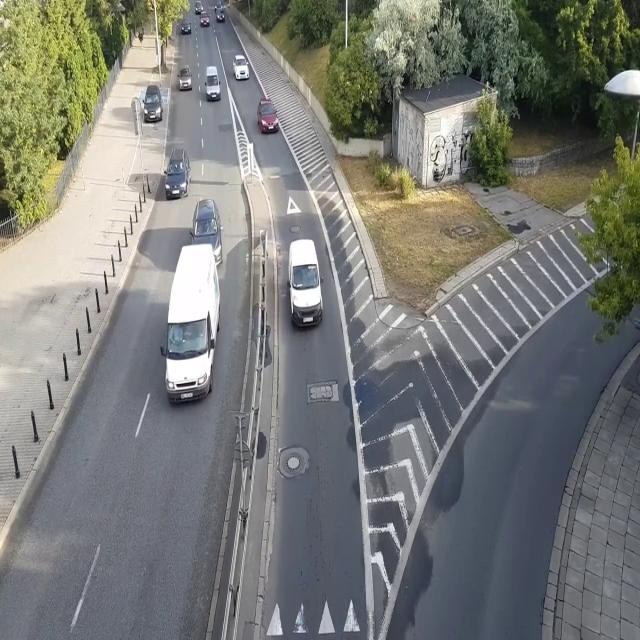car: (190, 197, 224, 265), (164, 147, 192, 200), (142, 85, 164, 122), (257, 98, 279, 134), (232, 55, 250, 81), (178, 65, 193, 92), (180, 18, 192, 34), (200, 11, 210, 28), (194, 1, 204, 14), (216, 8, 224, 22), (214, 0, 223, 12)
van: (159, 244, 223, 405), (287, 238, 324, 331), (205, 65, 221, 102)
